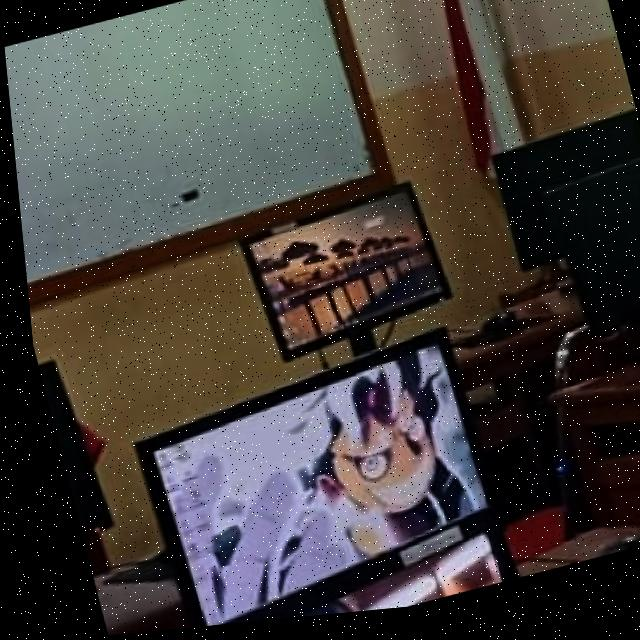offscreen: (489, 124, 640, 277), (539, 169, 640, 342)
onscreen: (129, 339, 477, 629), (237, 191, 444, 364)
